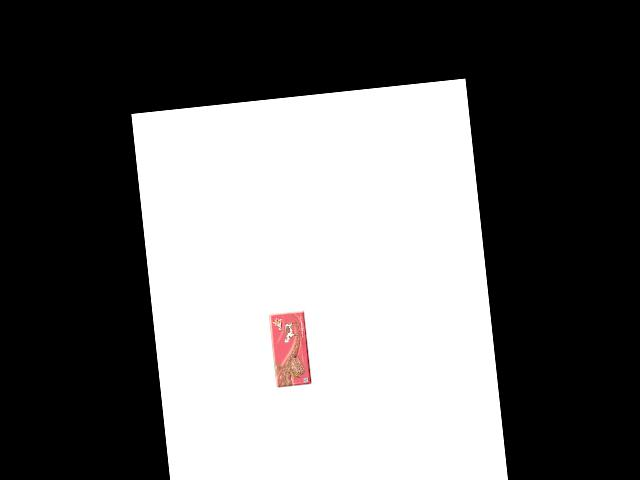chocolate: (267, 307, 315, 389)
